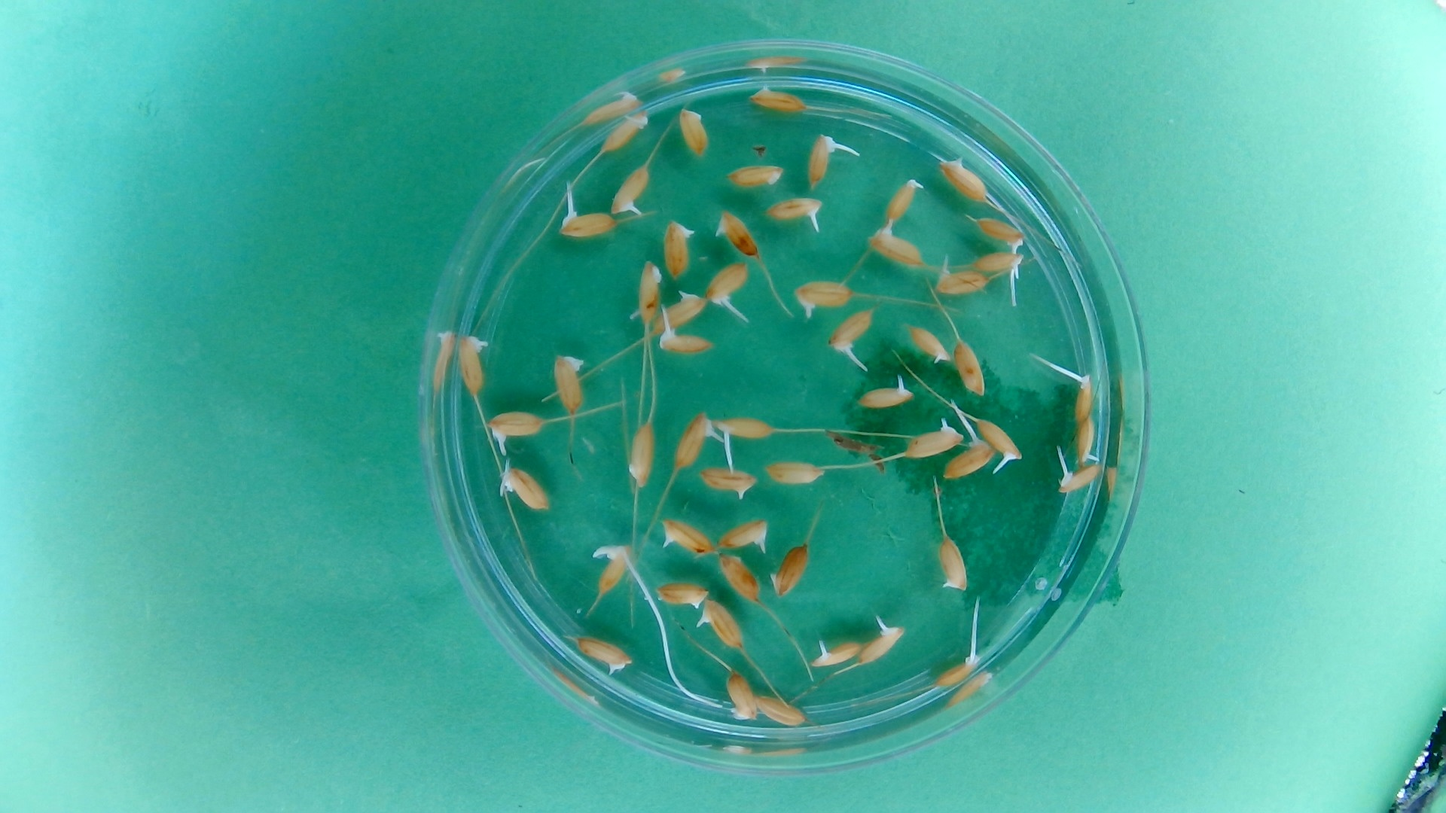no: (935, 154, 989, 204), (571, 634, 632, 676), (549, 349, 587, 416), (713, 206, 761, 259), (768, 542, 810, 598), (625, 417, 657, 488), (654, 290, 709, 331), (718, 552, 762, 603), (630, 257, 662, 326), (746, 83, 810, 115), (953, 337, 987, 397), (936, 534, 970, 592), (676, 105, 712, 157), (755, 693, 808, 727), (763, 458, 825, 487), (725, 669, 758, 722), (722, 162, 784, 190), (654, 580, 710, 609), (825, 429, 880, 456)
yes: (671, 410, 716, 471), (867, 222, 925, 269), (499, 464, 553, 512), (659, 515, 717, 558), (793, 278, 855, 318), (828, 306, 877, 356), (698, 598, 744, 650), (943, 435, 996, 480), (904, 419, 963, 459), (975, 416, 1022, 466), (609, 162, 651, 217), (856, 620, 906, 666), (485, 410, 547, 447), (599, 111, 651, 155), (704, 259, 752, 306), (456, 331, 490, 396), (661, 218, 697, 279), (904, 321, 952, 364), (595, 543, 633, 597), (763, 194, 825, 227), (558, 205, 618, 239), (855, 376, 916, 409), (805, 130, 839, 189), (973, 215, 1025, 253), (935, 261, 990, 296), (698, 467, 760, 498), (930, 649, 979, 688), (716, 516, 770, 551), (656, 324, 715, 355), (883, 176, 922, 222), (1054, 458, 1105, 493), (713, 414, 774, 442), (969, 248, 1026, 275), (811, 638, 862, 668), (1073, 413, 1100, 465), (1069, 371, 1096, 422)
